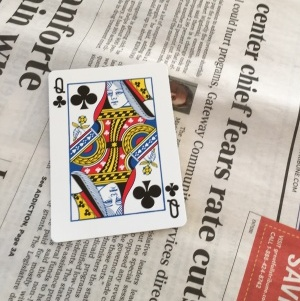card: (46, 60, 188, 241)
